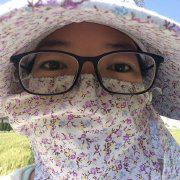OK: (32, 37, 150, 155)
